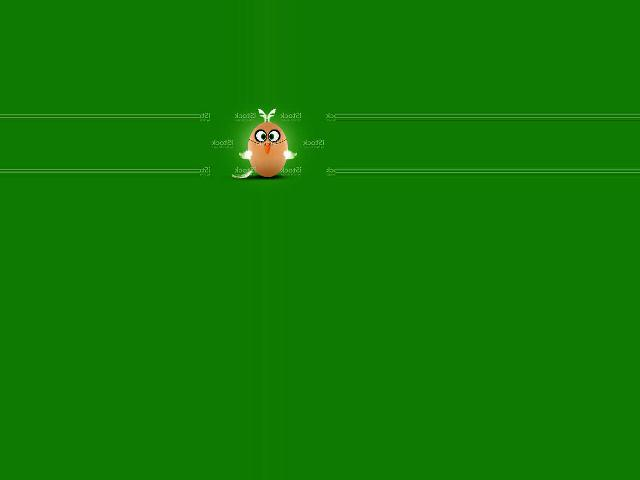egg: (247, 122, 286, 178)
